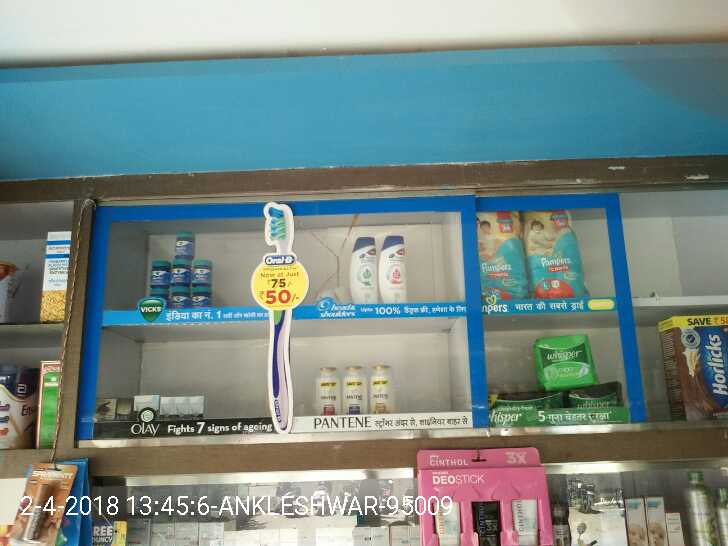vicks: (148, 286, 174, 311), (148, 260, 172, 285), (174, 230, 194, 258), (190, 286, 214, 309), (191, 260, 212, 282), (174, 286, 190, 309), (174, 261, 188, 281)
